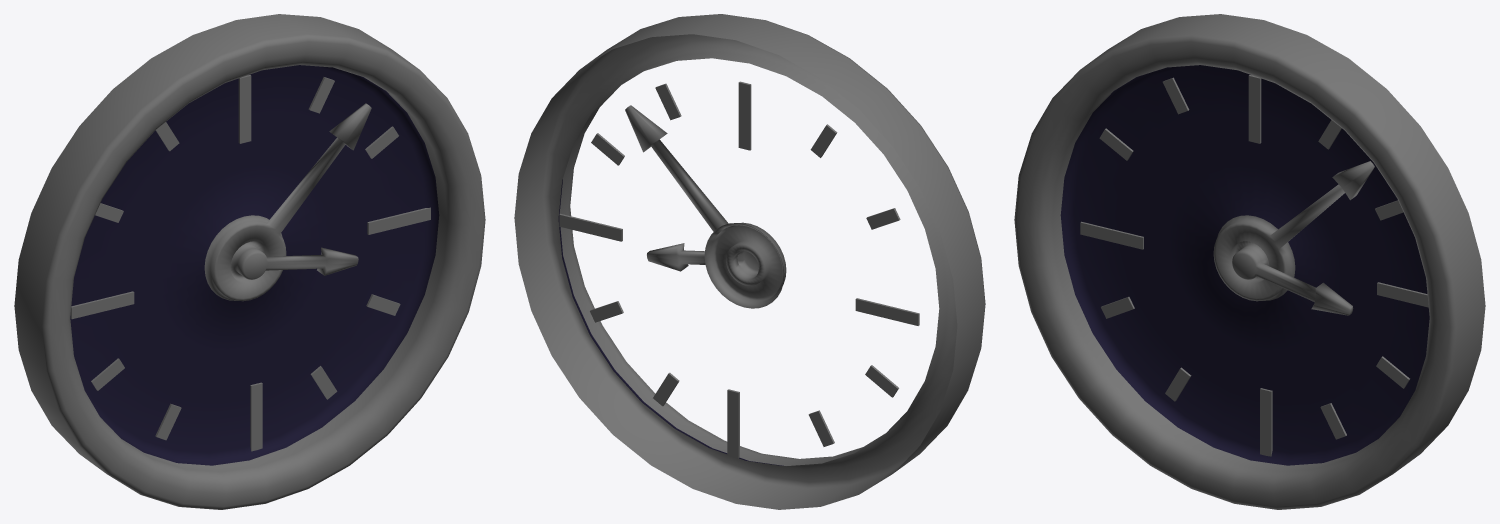
Rendered from Clock.fbx.
3 views of the same model, side by side, from view 1: azimuth 30°, elevation 25°; view 2: azimuth 150°, elevation 25°; view 3: azimuth 330°, elevation 25° (orthographic).
Parts seen in each view (by area): view 1: Circle, Cube; view 2: Circle, Cube; view 3: Circle, Cube.
Boxes of the visible parts, left/top/right/bottom form: Circle: left=14, top=14, right=485, bottom=509; Cube: left=70, top=75, right=430, bottom=451; Circle: left=514, top=14, right=985, bottom=509; Cube: left=559, top=81, right=919, bottom=458; Circle: left=1014, top=14, right=1485, bottom=509; Cube: left=1080, top=75, right=1428, bottom=456.
Bounding box in the file's own units: 200 × 200 × 23.82.
